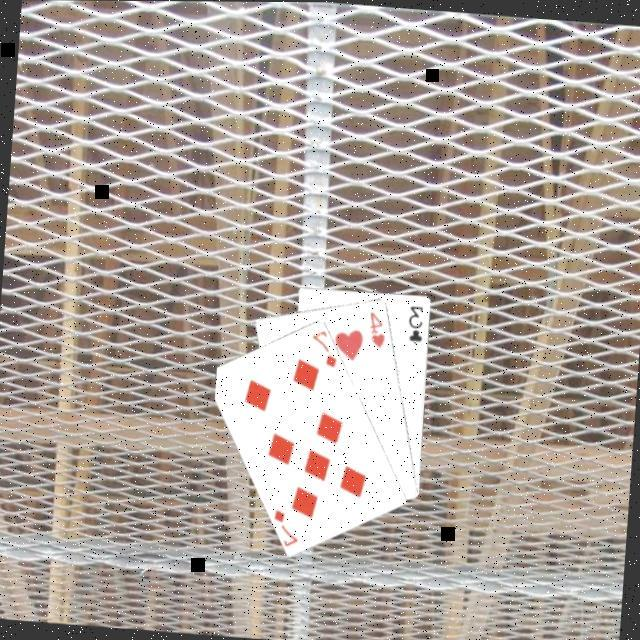3C: (406, 300, 429, 345)
4H: (366, 306, 391, 349)
7D: (308, 325, 343, 369), (270, 504, 305, 547)
